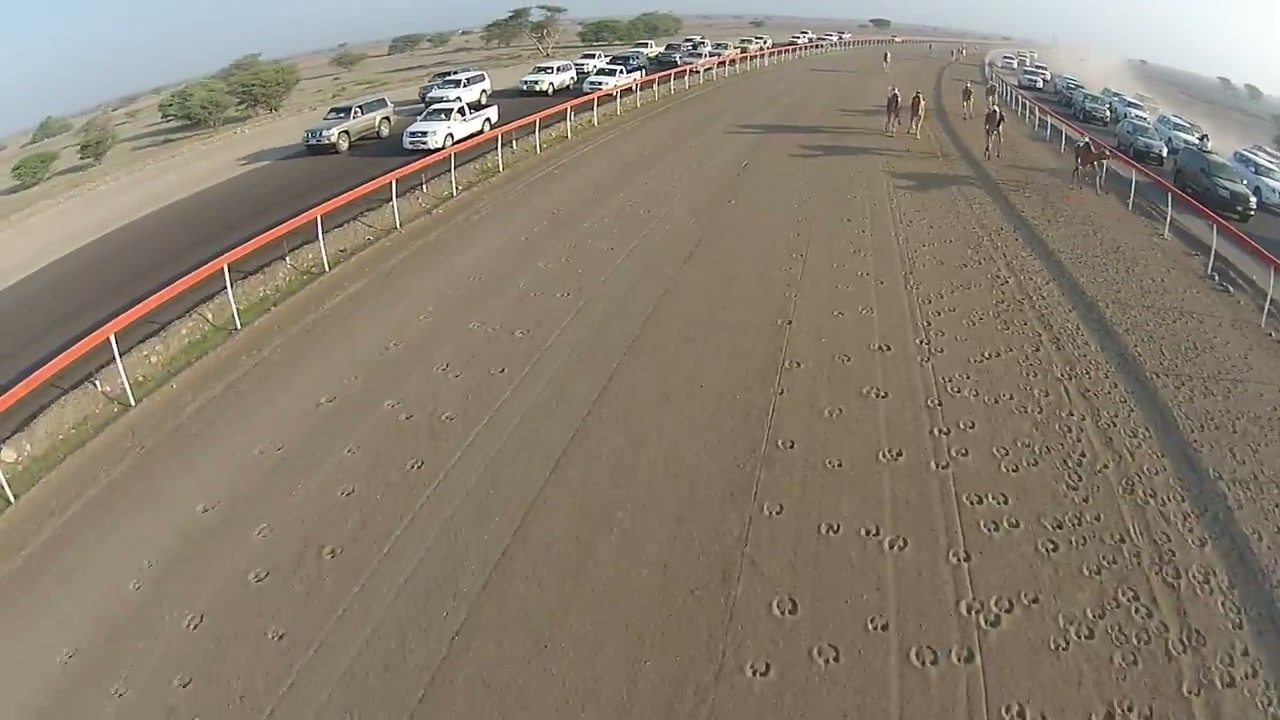animal_footprint: (1090, 697, 1156, 719), (1057, 613, 1096, 645), (1154, 563, 1184, 588), (908, 645, 938, 668), (811, 643, 841, 666), (770, 595, 799, 618), (1209, 667, 1239, 689), (1220, 605, 1244, 631), (1187, 563, 1213, 586), (1112, 648, 1140, 668), (1000, 702, 1032, 719), (960, 388, 994, 404), (744, 659, 772, 678), (978, 608, 1003, 629), (1116, 585, 1142, 605), (950, 645, 976, 665), (988, 595, 1015, 614), (1069, 622, 1096, 641), (958, 597, 984, 616), (1166, 636, 1190, 656), (1130, 602, 1153, 622), (1130, 628, 1154, 647), (1181, 678, 1203, 698), (108, 677, 128, 699), (1037, 537, 1060, 556), (1012, 402, 1042, 416), (1040, 515, 1066, 531), (866, 614, 889, 632), (1085, 604, 1109, 621), (884, 535, 908, 552), (877, 447, 904, 462), (1048, 634, 1070, 652), (57, 648, 78, 666), (948, 548, 971, 564), (254, 443, 284, 455), (1019, 590, 1040, 607), (265, 625, 286, 642), (762, 501, 784, 517), (1186, 533, 1208, 549), (862, 386, 889, 399), (961, 492, 986, 506), (819, 521, 842, 536), (979, 520, 1002, 535), (998, 459, 1021, 474), (184, 613, 203, 631), (1082, 561, 1102, 578), (860, 524, 882, 539), (247, 568, 269, 583), (986, 492, 1009, 506), (172, 673, 192, 689), (1000, 515, 1021, 530), (195, 501, 219, 514), (320, 545, 342, 559), (924, 345, 945, 359), (416, 306, 434, 321), (253, 523, 271, 538), (930, 458, 950, 471), (405, 458, 424, 471), (1020, 455, 1039, 468), (992, 392, 1014, 403), (849, 246, 871, 257), (823, 406, 843, 418), (338, 484, 356, 497), (824, 457, 843, 469), (950, 447, 969, 459), (317, 394, 336, 406), (869, 342, 891, 352), (946, 384, 964, 396), (993, 446, 1011, 458), (776, 439, 795, 450), (926, 396, 942, 409), (784, 359, 803, 369), (927, 329, 946, 339), (439, 411, 456, 422), (835, 353, 852, 364), (129, 578, 143, 591), (930, 427, 950, 436), (384, 399, 401, 409), (397, 412, 415, 421), (835, 284, 857, 291), (342, 375, 359, 384), (448, 370, 463, 380), (915, 337, 930, 347), (343, 445, 358, 455), (774, 384, 786, 396), (490, 366, 506, 375), (917, 354, 931, 364), (512, 329, 529, 337), (954, 334, 969, 343), (859, 306, 874, 315), (468, 321, 484, 329), (776, 318, 792, 326), (871, 278, 886, 286), (779, 265, 794, 273), (484, 325, 501, 332), (555, 291, 571, 298), (832, 309, 845, 317), (468, 275, 482, 282), (856, 270, 870, 277), (784, 291, 797, 298), (832, 262, 847, 268), (530, 291, 544, 297), (565, 243, 577, 249), (605, 245, 615, 251)
